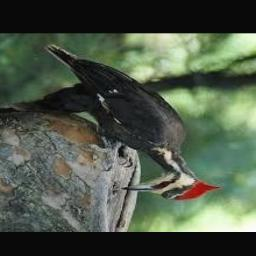Woodpecker: (43, 46, 221, 200)
